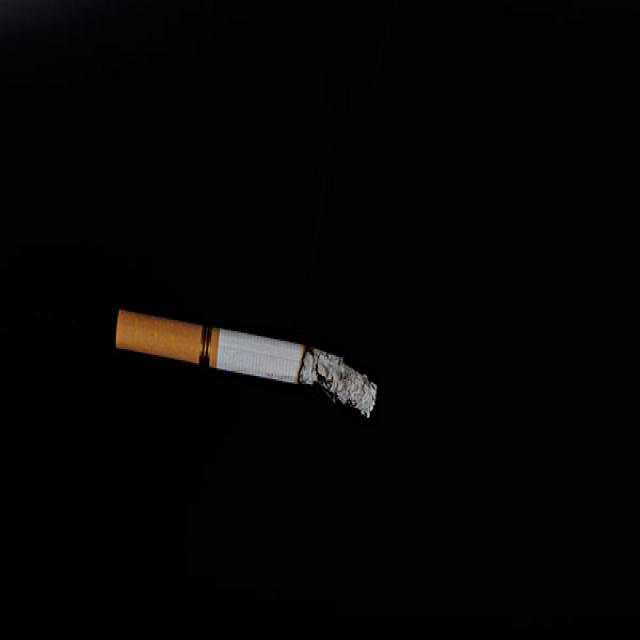smoking: (115, 306, 379, 421)
